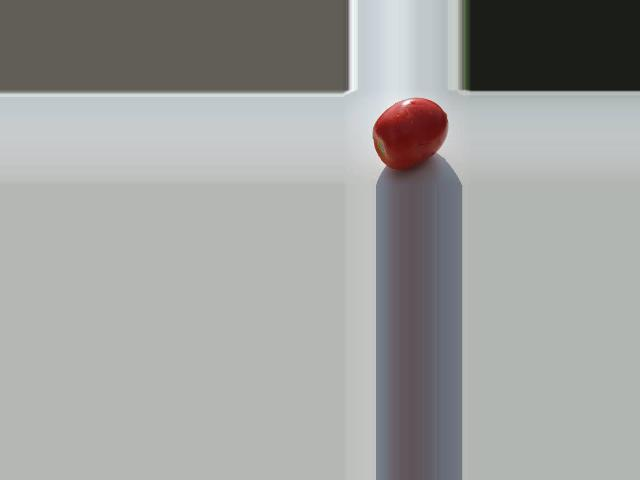tomato: (372, 97, 448, 169)
